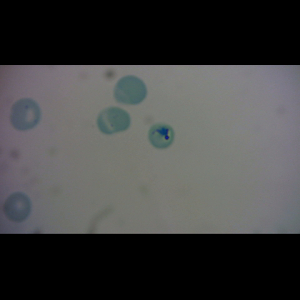erythrocyte: (113, 75, 148, 106), (2, 191, 32, 224), (148, 122, 176, 150)
punctate reticulocyte: (10, 97, 42, 133), (97, 107, 132, 135)
